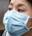with_mask: (2, 1, 32, 36)
